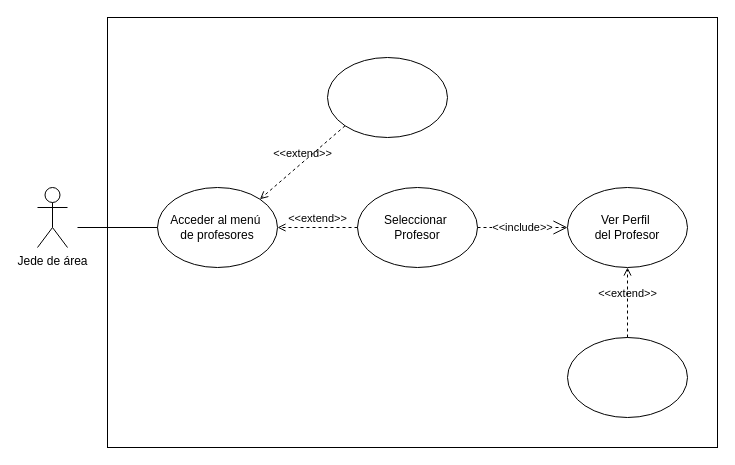
The diagram is 735 pixels wide and 465 high, and some of its shapes have lost their labels. Each missing label, with the box of its shape:
Eliminar Profesor: (566, 336, 688, 418)
Filtrar lista de profesores: (326, 56, 448, 138)
